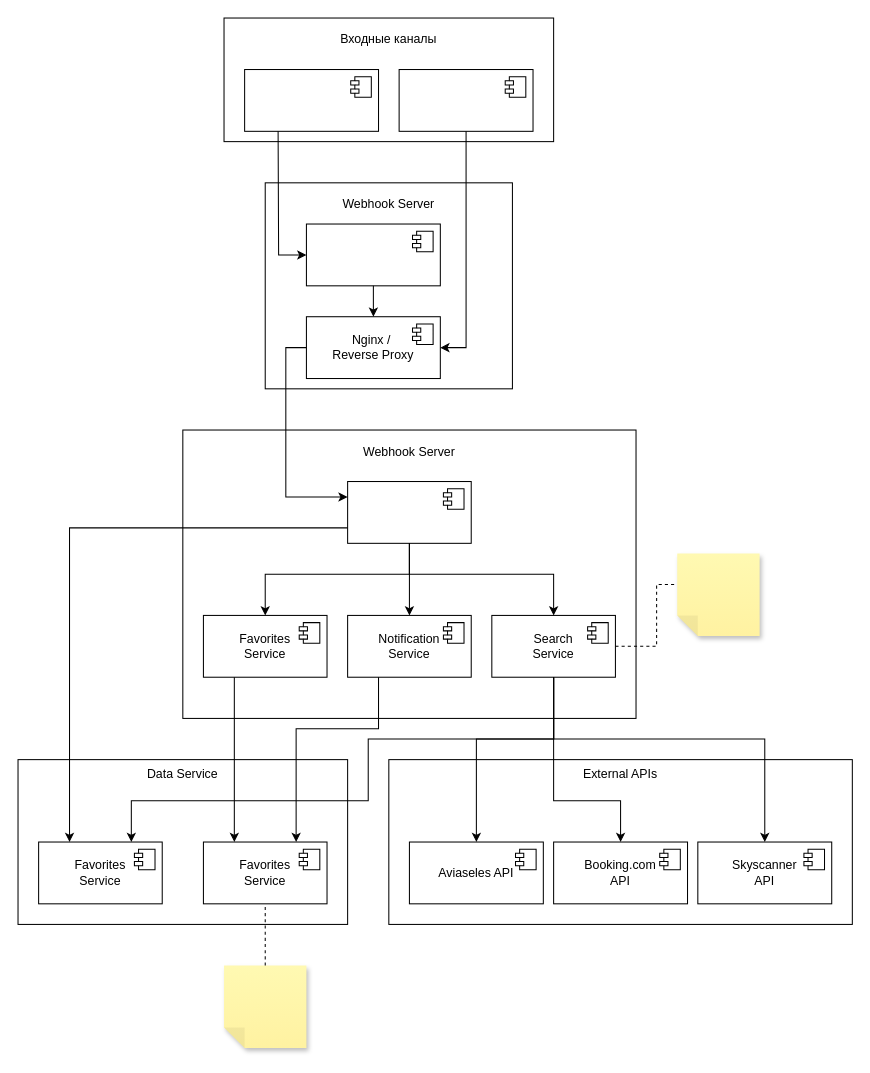
Some shapes in this 870 by 1073 pixel diagram are drawn without their labels. The shapes that lost their labels are listed below. From the top down, each one's centre as x and y in pixels, then its label:
At (311,99): "Telegram Fronted".
At (465,99): "Mobile App".
At (372,254): "Telegram Bot API".
At (409,511): "Command Processor".
At (719,596): "- Flights - Hotels - Combiend".
At (265,1008): "- Profiles - Favorites - History".
